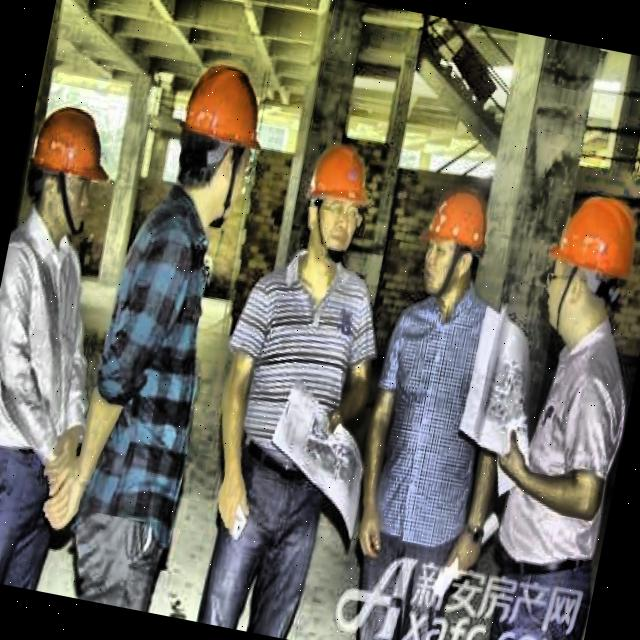helmet: (162, 52, 280, 235), (531, 185, 640, 349), (20, 97, 118, 243), (290, 135, 383, 271), (410, 184, 494, 305)
